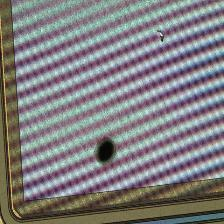PO CONTAMINATION: (91, 76, 132, 168), (132, 25, 172, 76)
